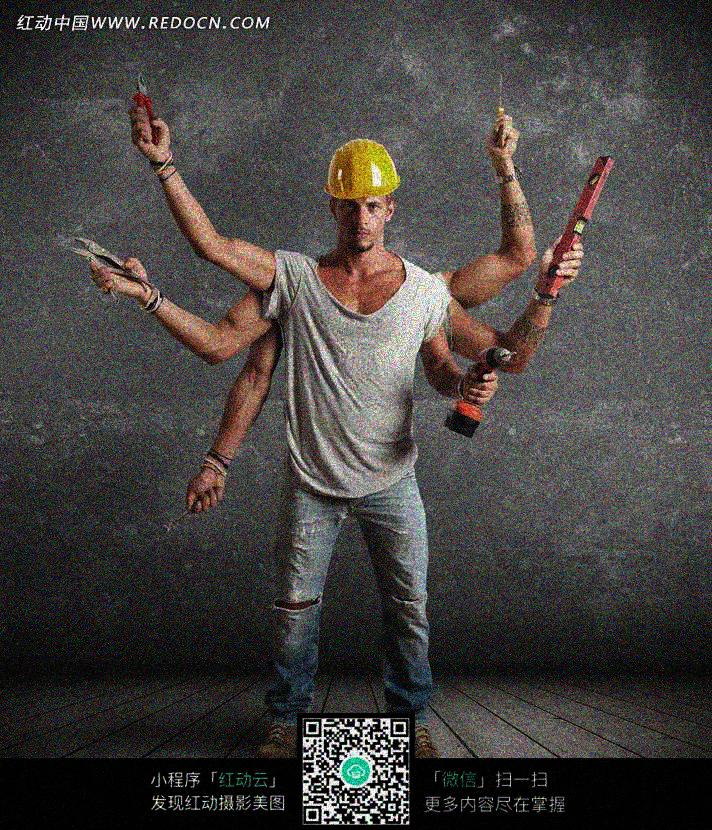helmet: (320, 140, 408, 252)
